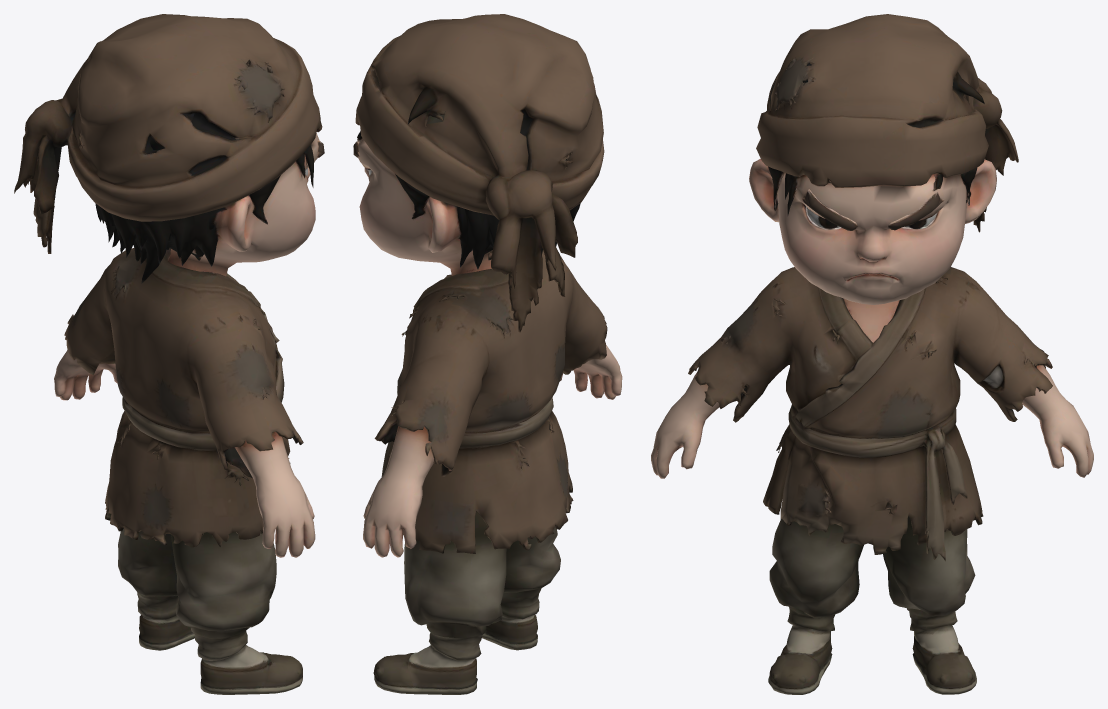
Rendered from 61151d10-8ad9-4ff0-be50-04ceb4dbab33_model.glb.
The picture shows the model from 3 angles, left to right: view 1: azimuth 30°, elevation 25°; view 2: azimuth 150°, elevation 25°; view 3: azimuth 270°, elevation 25°; orthographic projection.
Parts seen in each view (by area): view 1: tripo_node_61151d10-8ad9-4ff0-be50-04ceb4dbab33; view 2: tripo_node_61151d10-8ad9-4ff0-be50-04ceb4dbab33; view 3: tripo_node_61151d10-8ad9-4ff0-be50-04ceb4dbab33.
Boxes of the visible parts, left/top/right/bottom form: tripo_node_61151d10-8ad9-4ff0-be50-04ceb4dbab33: left=14, top=14, right=324, bottom=694; tripo_node_61151d10-8ad9-4ff0-be50-04ceb4dbab33: left=353, top=14, right=622, bottom=694; tripo_node_61151d10-8ad9-4ff0-be50-04ceb4dbab33: left=651, top=14, right=1093, bottom=694.
Size of the model in its own units: 0.0994 by 0.25 by 0.159.
Materials: 1 (1 with a texture image).
